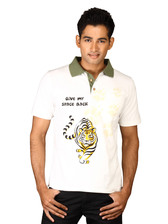clothoes: (29, 55, 149, 194)
